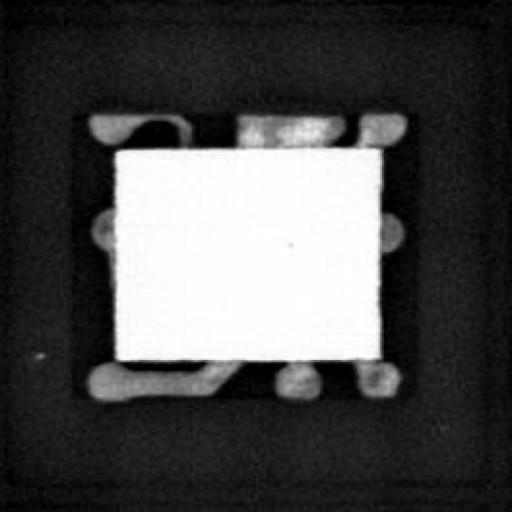DIE_INK: (25, 345, 45, 362), (281, 234, 295, 248)
